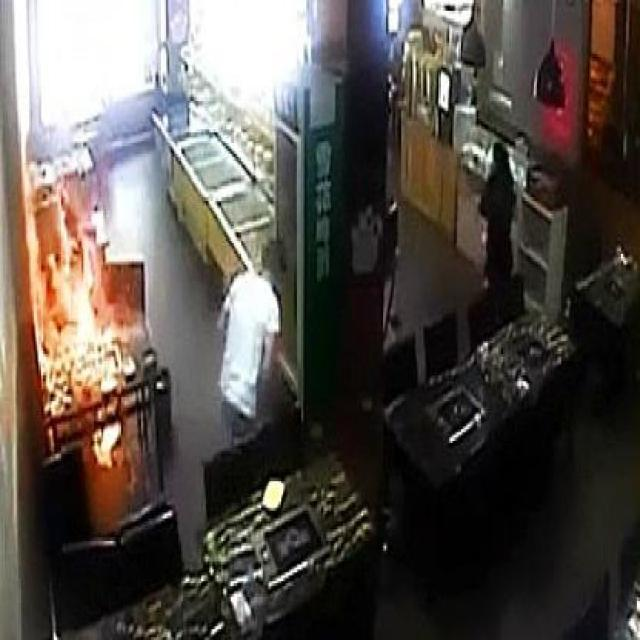Fire: (32, 254, 76, 356), (41, 366, 117, 388), (78, 260, 95, 354), (63, 202, 80, 261), (100, 426, 118, 460), (118, 354, 138, 377), (102, 454, 115, 468)
